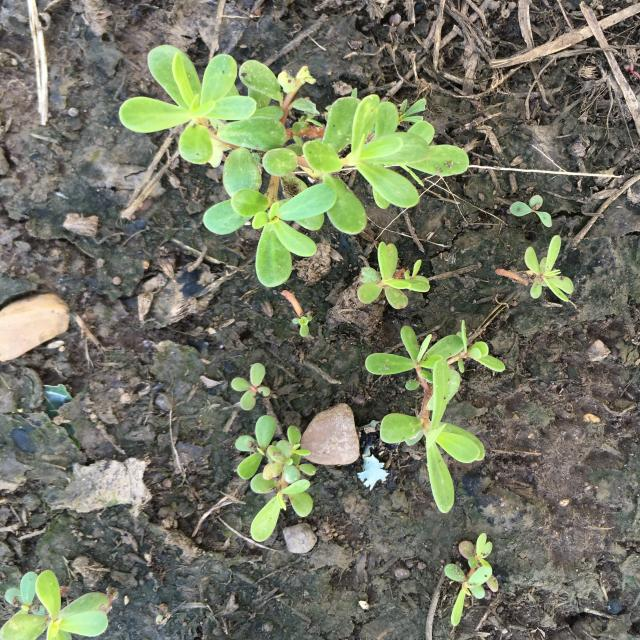Carpetweed: (510, 195, 552, 227)
Purslane: (119, 45, 469, 287), (366, 320, 506, 514), (235, 414, 316, 542), (0, 569, 117, 640), (444, 534, 498, 626), (358, 241, 430, 309), (524, 235, 574, 302), (231, 362, 271, 410)
